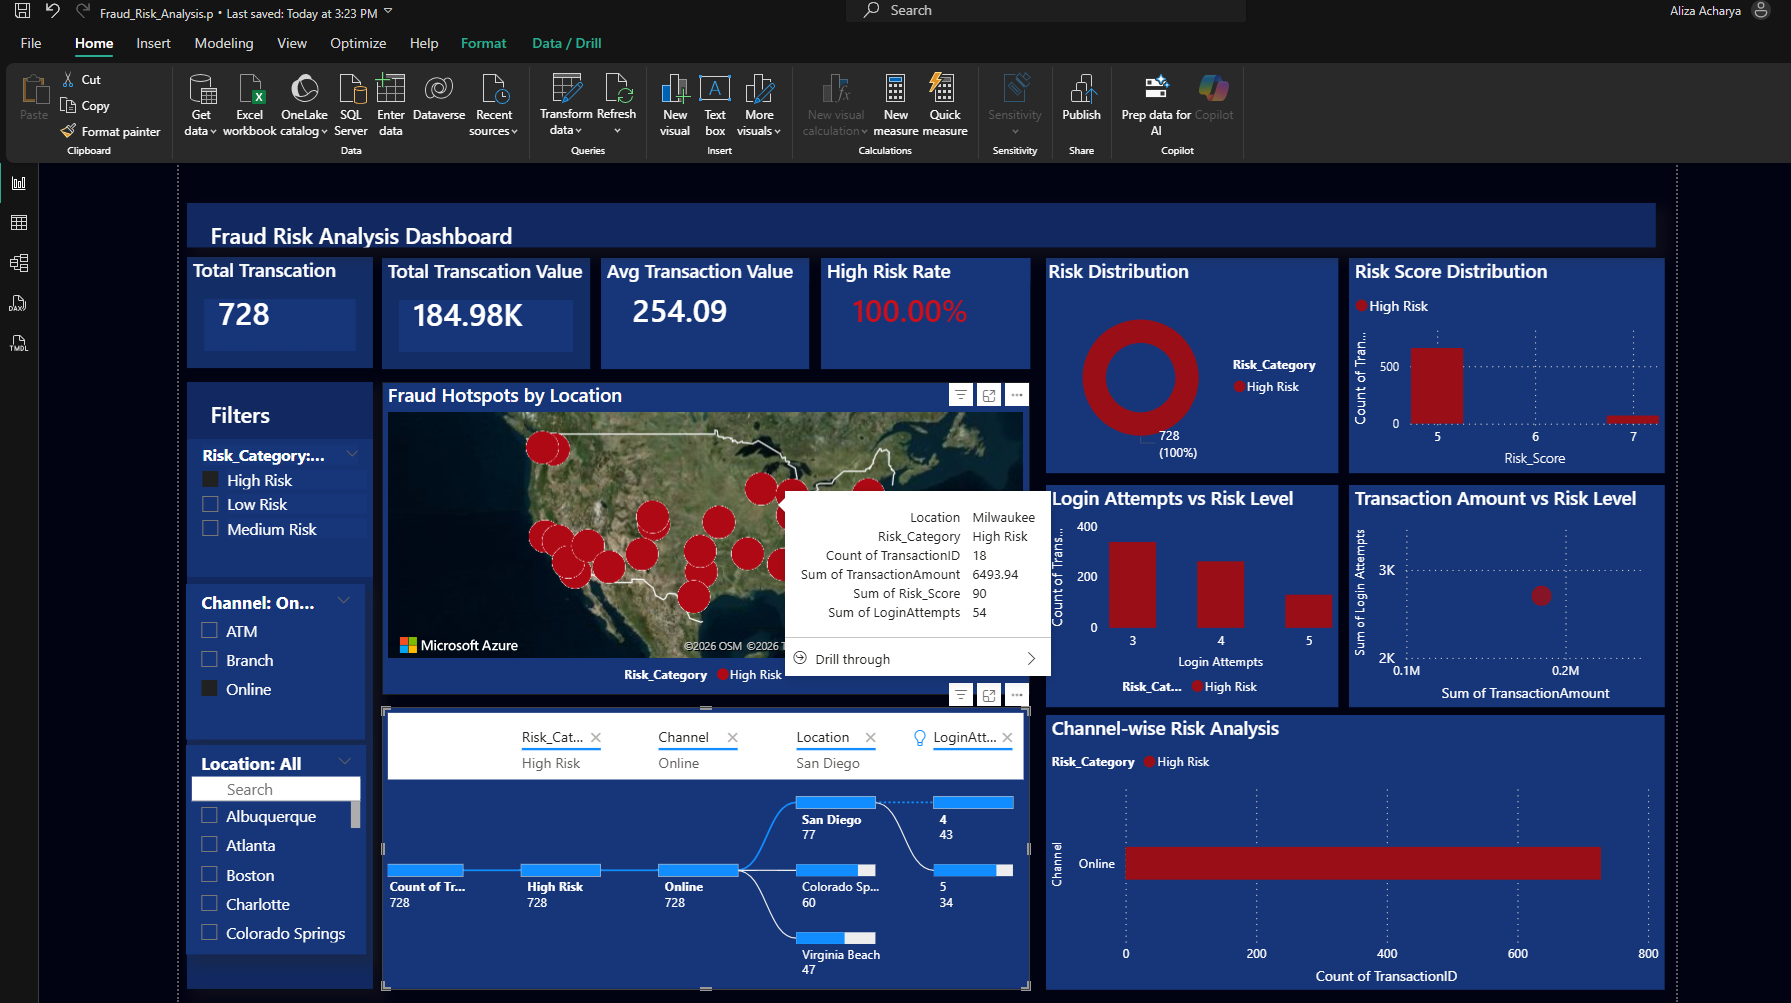

What the dashboard file says about the page in this screenshot:
{"tool":"powerbi","page":{"name":"Page 1","canvas":[1280,720],"ordinal":0},"visuals":[{"type":"textbox","title":"Filters","box":[6.9,187.5,159,519.3],"z":0},{"type":"cardVisual","title":"Total Transcation","fields":{"Data":["CountNonNull(fraud_risk_analysis_transactions csv.TransactionID)"]},"box":[6.9,80.5,159,95.2],"z":2000},{"type":"cardVisual","title":"Avg Transaction Value","fields":{"Data":["Avg(fraud_risk_analysis_transactions csv.TransactionAmount)"]},"box":[361.2,81.5,178,95],"z":3000},{"type":"barChart","title":"Channel-wise Risk Analysis","fields":{"Y":["CountNonNull(fraud_risk_analysis_transactions csv.TransactionID)"],"Category":["fraud_risk_analysis_transactions csv.Channel"],"Series":["fraud_risk_analysis_transactions csv.Risk_Category"]},"box":[741.5,472.3,528.8,234.8],"z":4000},{"type":"clusteredColumnChart","title":"Login Attempts vs Risk Level","fields":{"Category":["fraud_risk_analysis_transactions csv.LoginAttempts"],"Y":["CountNonNull(fraud_risk_analysis_transactions csv.TransactionID)"],"Series":["fraud_risk_analysis_transactions csv.Risk_Category"]},"box":[741.5,275.4,249.8,189.8],"z":5000},{"type":"donutChart","title":"Risk Distribution","fields":{"Category":["fraud_risk_analysis_transactions csv.Risk_Category"],"Y":["CountNonNull(fraud_risk_analysis_transactions csv.TransactionID)"]},"box":[741.5,81.2,249.8,183.6],"z":6000},{"type":"clusteredColumnChart","title":"Risk Score Distribution","fields":{"Category":["fraud_risk_analysis_transactions csv.Risk_Score"],"Y":["CountNonNull(fraud_risk_analysis_transactions csv.TransactionID)"],"Series":["fraud_risk_analysis_transactions csv.Risk_Category"]},"box":[1000.2,81.2,270.1,183.6],"z":7000},{"type":"scatterChart","title":"Transaction Amount vs Risk Level","fields":{"X":["Sum(fraud_risk_analysis_transactions csv.TransactionAmount)"],"Y":["Sum(fraud_risk_analysis_transactions csv.LoginAttempts)"],"Size":["Sum(fraud_risk_analysis_transactions csv.Risk_Score)"],"Series":["fraud_risk_analysis_transactions csv.Risk_Category"]},"box":[1000.2,275.4,270.1,189.8],"z":8000},{"type":"azureMap","title":"Fraud Hotspots by Location","fields":{"Category":["fraud_risk_analysis_transactions csv.Location"],"Size":["CountNonNull(fraud_risk_analysis_transactions csv.TransactionID)"],"Series":["fraud_risk_analysis_transactions csv.Risk_Category"]},"box":[173.9,187.1,553.5,267.5],"z":10000},{"type":"slicer","fields":{"Values":["fraud_risk_analysis_transactions csv.Risk_Category"]},"box":[6.9,235.6,159,117.8],"z":11000},{"type":"slicer","fields":{"Values":["fraud_risk_analysis_transactions csv.Channel"]},"box":[5.9,360.2,153.1,133.5],"z":12000},{"type":"slicer","fields":{"Values":["fraud_risk_analysis_transactions csv.Location"]},"box":[5.9,497.7,154.1,178.7],"z":13000},{"type":"cardVisual","title":"Total Transcation Value","fields":{"Data":["Sum(fraud_risk_analysis_transactions csv.TransactionAmount)"]},"box":[173.7,81.5,178,95],"z":14000},{"type":"textbox","title":"Fraud Risk Analysis Dashboard","box":[6.9,34.4,1256.4,38.3],"z":15000},{"type":"cardVisual","title":"High Risk Rate","fields":{"Data":["fraud_risk_analysis_transactions csv.HighRisk %"]},"box":[548.7,81.5,178.7,95.2],"z":16000},{"type":"decompositionTreeVisual","fields":{"Analyze":["CountNonNull(fraud_risk_analysis_transactions csv.TransactionID)"],"ExplainBy":["fraud_risk_analysis_transactions csv.Risk_Category","fraud_risk_analysis_transactions csv.Channel","fraud_risk_analysis_transactions csv.Location","fraud_risk_analysis_transactions csv.LoginAttempts"]},"box":[173.9,465.2,553.5,241.9],"z":17000}]}

Visuals, with their boxes on the page's 1280x720 design canvas (x1, y1, x2, y2). These are canvas units, not pixel positions in the 1791x1003 screenshot, which may show the page scaled, cropped or inside an application window:
"Filters" textbox: box(7, 188, 166, 707)
"Total Transcation" cardVisual: box(7, 80, 166, 176)
"Avg Transaction Value" cardVisual: box(361, 82, 539, 176)
"Channel-wise Risk Analysis" barChart: box(742, 472, 1270, 707)
"Login Attempts vs Risk Level" clusteredColumnChart: box(742, 275, 991, 465)
"Risk Distribution" donutChart: box(742, 81, 991, 265)
"Risk Score Distribution" clusteredColumnChart: box(1000, 81, 1270, 265)
"Transaction Amount vs Risk Level" scatterChart: box(1000, 275, 1270, 465)
"Fraud Hotspots by Location" azureMap: box(174, 187, 727, 455)
slicer - fraud_risk_analysis_transactions csv.Risk_Category: box(7, 236, 166, 353)
slicer - fraud_risk_analysis_transactions csv.Channel: box(6, 360, 159, 494)
slicer - fraud_risk_analysis_transactions csv.Location: box(6, 498, 160, 676)
"Total Transcation Value" cardVisual: box(174, 82, 352, 176)
"Fraud Risk Analysis Dashboard" textbox: box(7, 34, 1263, 73)
"High Risk Rate" cardVisual: box(549, 82, 727, 177)
decompositionTreeVisual - CountNonNull(fraud_risk_analysis_transactions csv.TransactionID) x fraud_risk_analysis_transactions csv.Risk_Category: box(174, 465, 727, 707)
